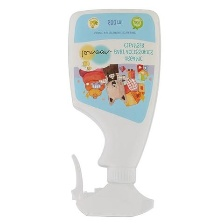cleaning_solution: (65, 6, 164, 220)
